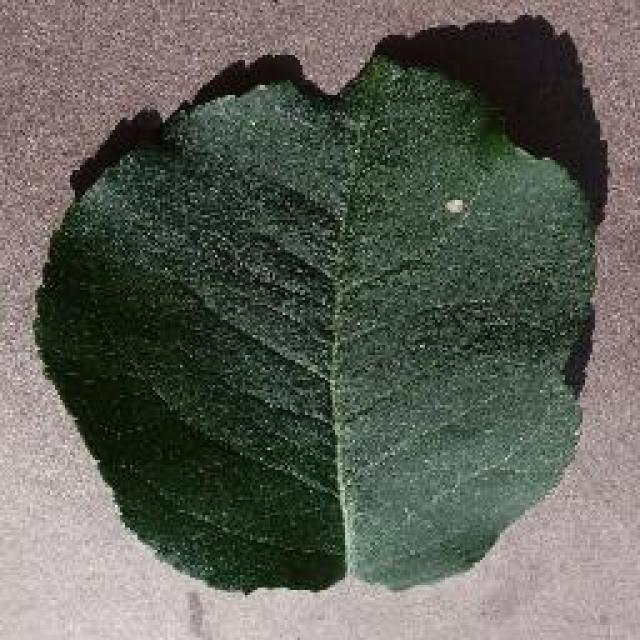apple healthy: (30, 35, 605, 595)
